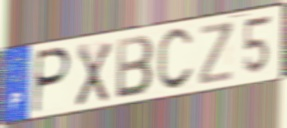5: (241, 15, 274, 78)
B: (115, 33, 155, 101)
C: (155, 26, 195, 94)
P: (31, 46, 73, 117)
X: (74, 40, 114, 109)
Z: (198, 19, 235, 88)
